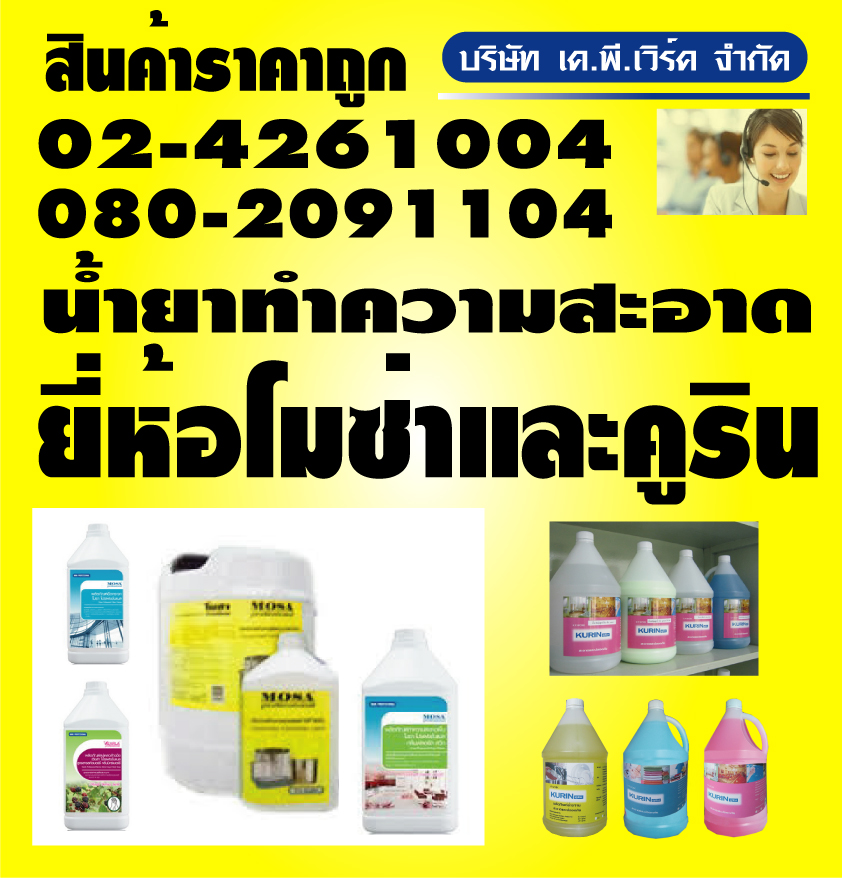Cleaning_solution: (151, 539, 325, 801), (356, 618, 462, 839), (237, 627, 343, 817), (58, 676, 138, 833), (549, 525, 628, 673), (534, 692, 611, 841), (60, 519, 134, 669), (701, 695, 775, 844), (619, 694, 693, 843), (612, 534, 681, 665), (666, 547, 721, 655), (702, 548, 753, 657)
